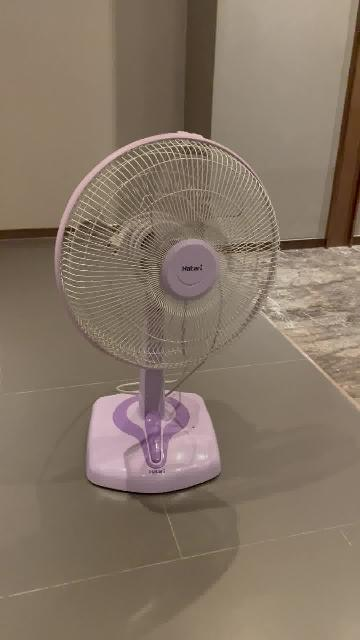Fan: (52, 132, 280, 497)
